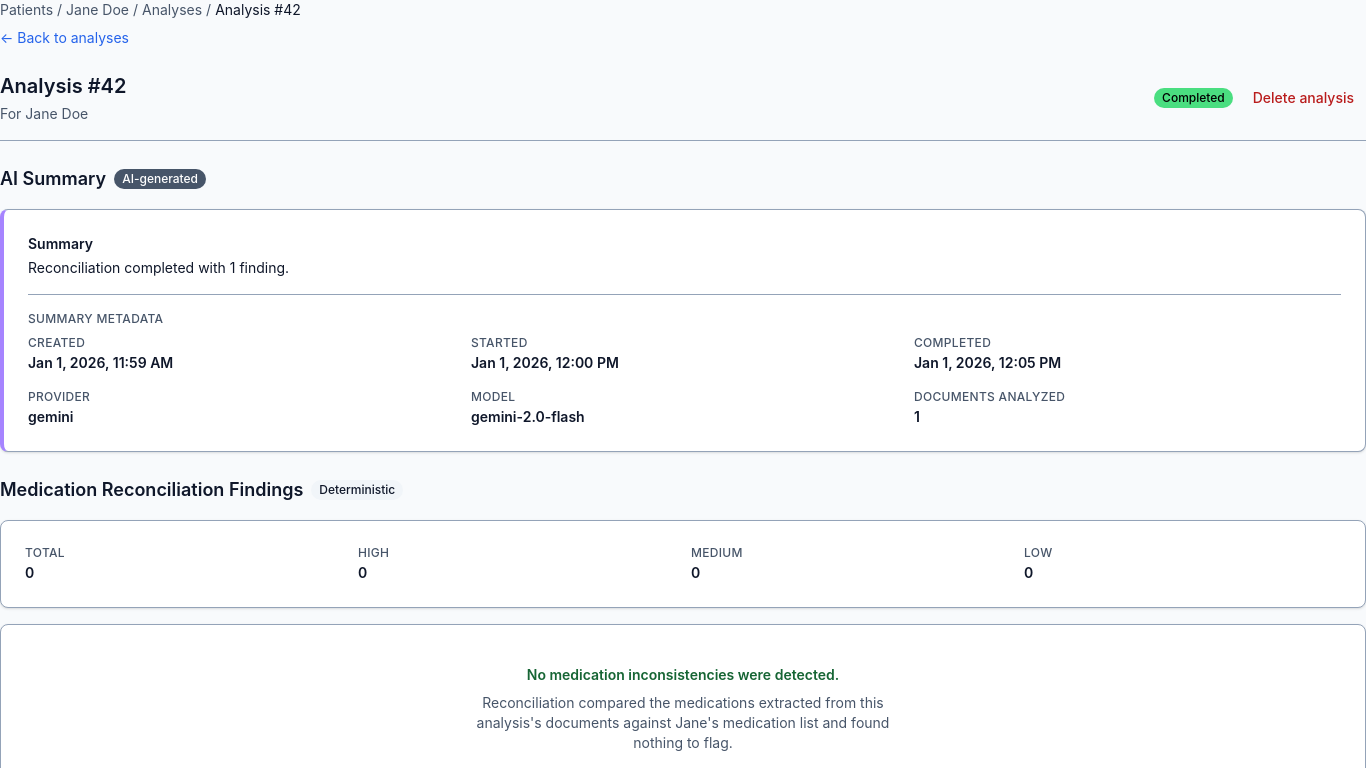
Scenario: AnalysisDetailPage › opens a confirmation dialog naming the analysis and patient with a permanent-deletion warning
Click the button "Delete analysis": coordinates (1303, 98) [1241,82,1365,114]
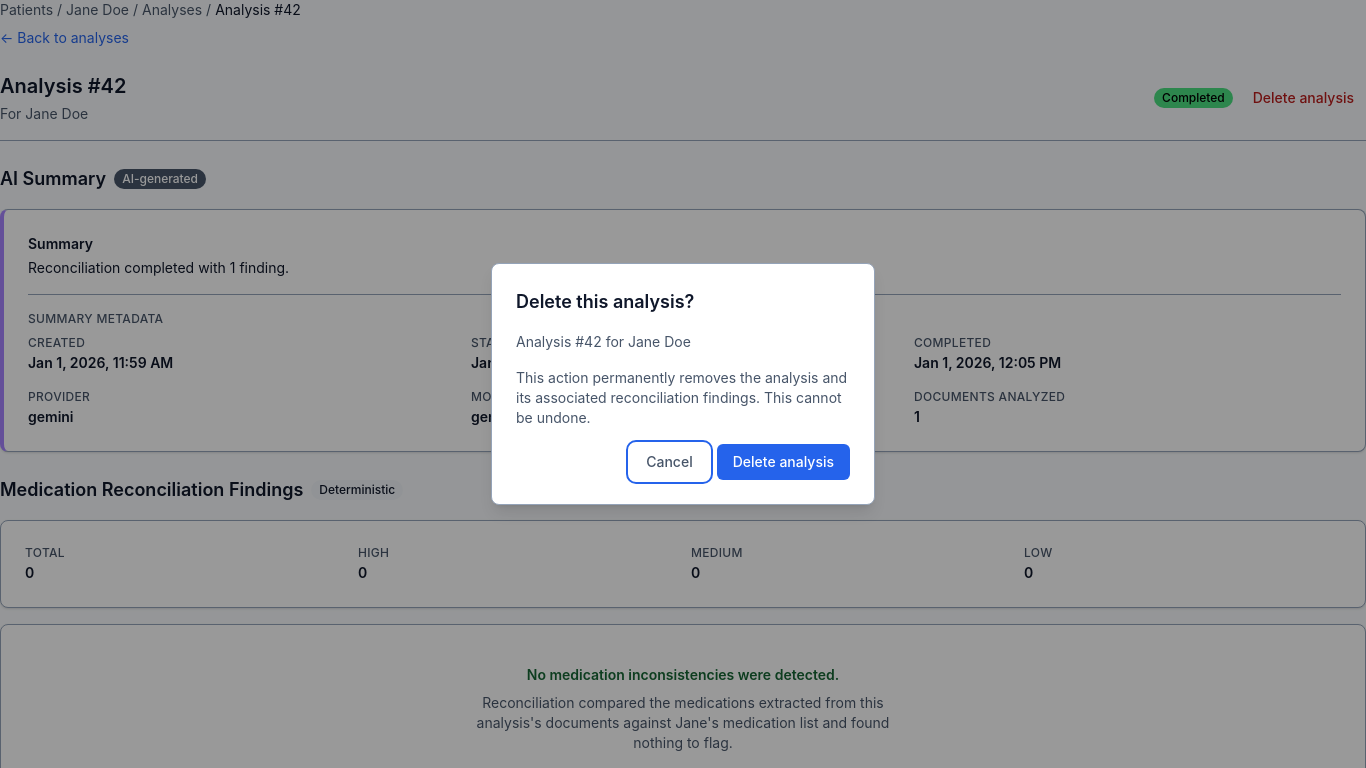
Expected: the heading "Delete this analysis?" is shown, [516,291,694,312]
Expected: the text "Analysis #42 for Jane Doe" is shown, [516,333,691,350]
Expected: the text "cannot be undone" is shown, [516,369,847,426]
